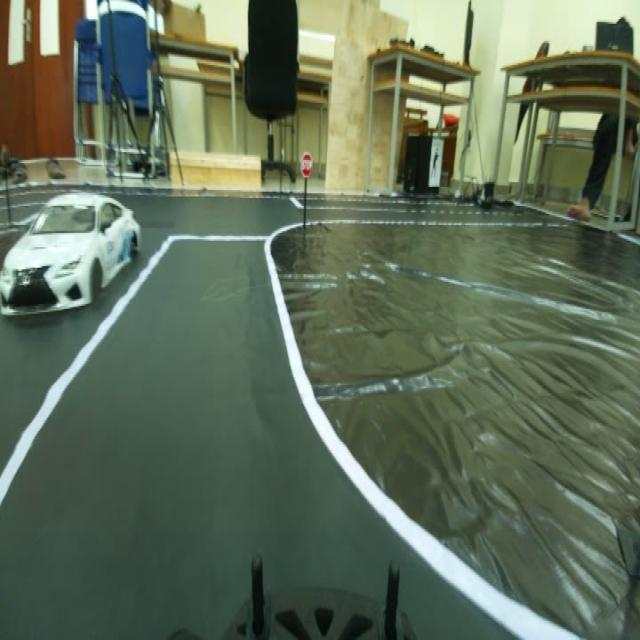car: (4, 182, 141, 336)
stop: (290, 140, 317, 183)
